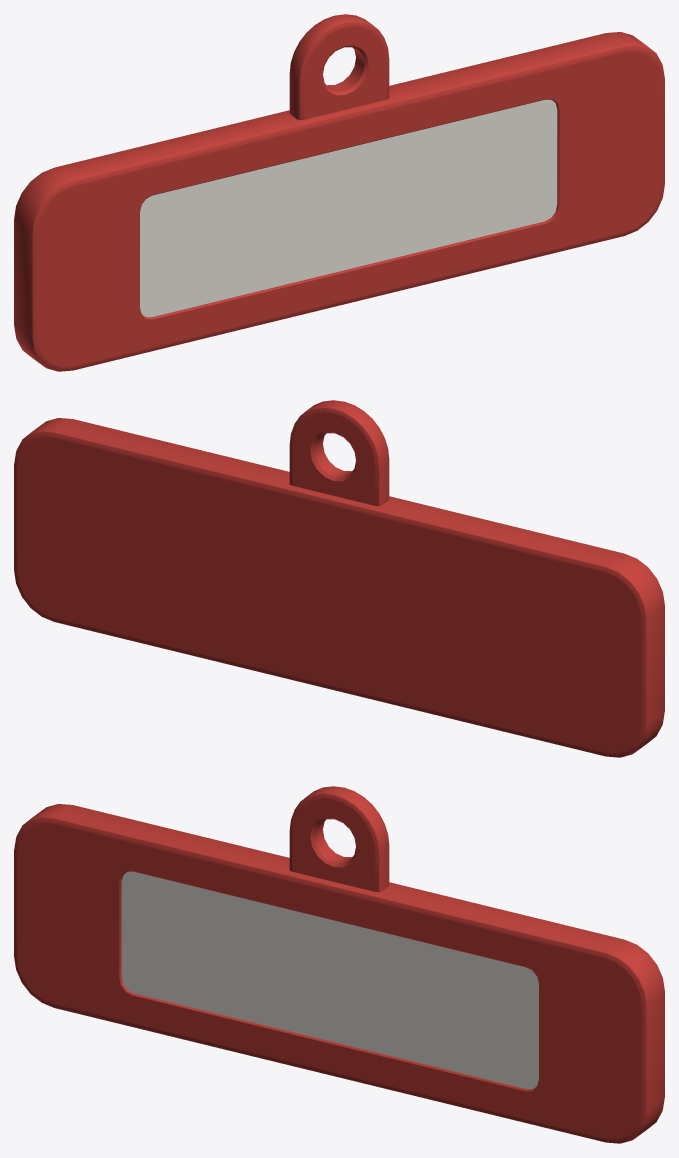
The model's file is Kit_KeyTag_Long.fbx.
3 renders of one model, top to bottom at view 1: azimuth 30°, elevation 25°; view 2: azimuth 150°, elevation 25°; view 3: azimuth 330°, elevation 25°, orthographic.
Visible parts, largest first — view 1: Kit_KeyTag_Long_LOD0; view 2: Kit_KeyTag_Long_LOD0; view 3: Kit_KeyTag_Long_LOD0.
Part boxes in pixels (x1=…): Kit_KeyTag_Long_LOD0: x1=14, y1=14, x2=664, y2=371; Kit_KeyTag_Long_LOD0: x1=14, y1=400, x2=664, y2=757; Kit_KeyTag_Long_LOD0: x1=14, y1=786, x2=664, y2=1143.
Size of what is drawn, in the model's own units: 0.076 by 0.032 by 0.0042.
